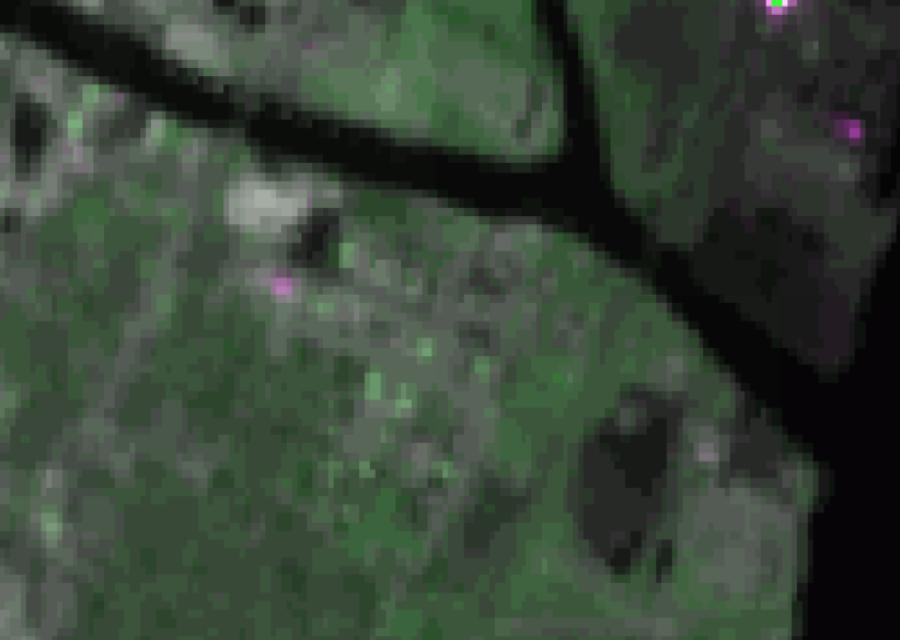Potential Lime Manufacturing Facility: (273, 274, 294, 296), (768, 0, 794, 15), (844, 118, 860, 142)
